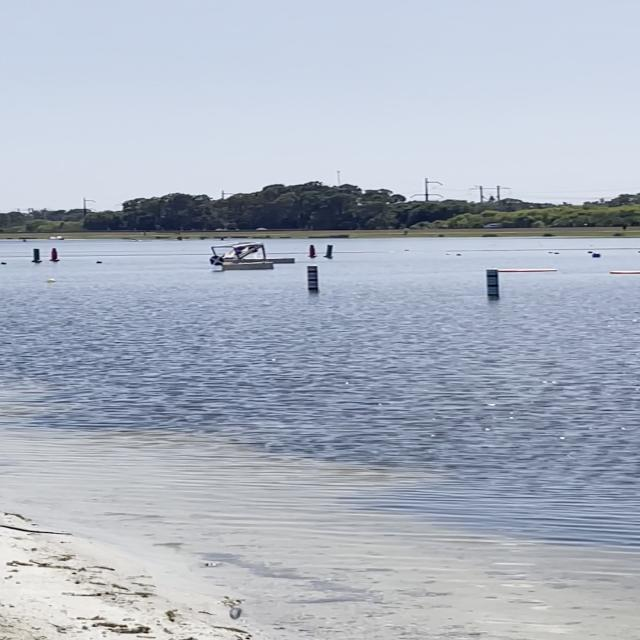buoy: (590, 252, 602, 259), (48, 278, 56, 282)
